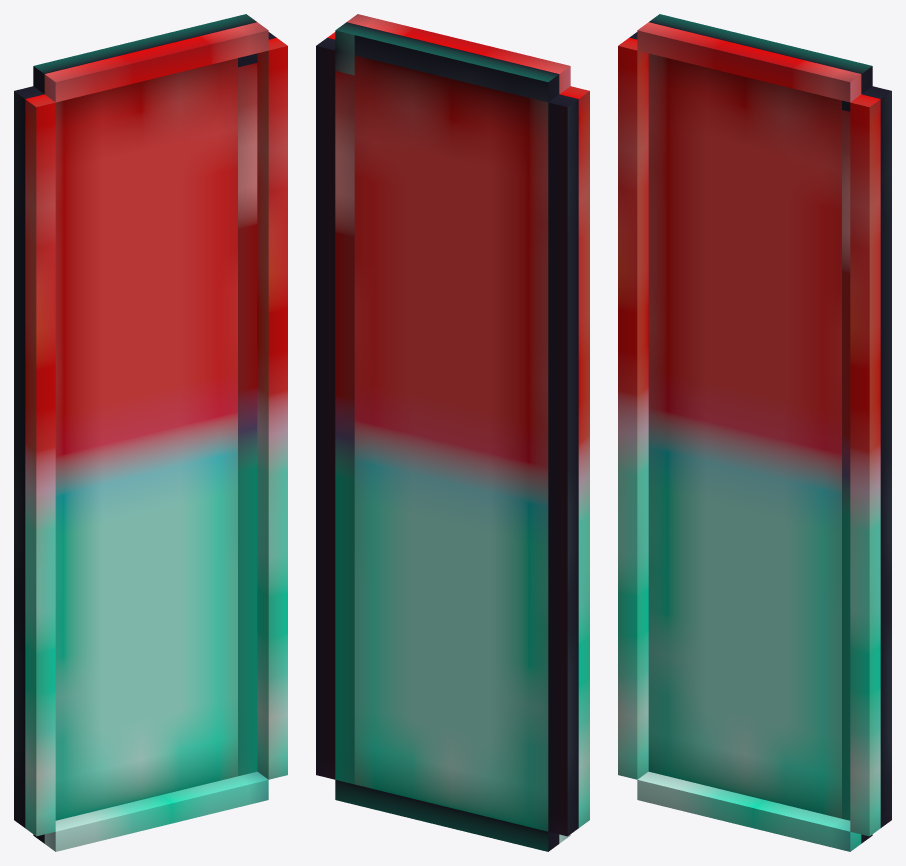
Rendered from Billboard_Pill_00.fbx.
3 renders of one model, left to right at view 1: azimuth 30°, elevation 25°; view 2: azimuth 150°, elevation 25°; view 3: azimuth 330°, elevation 25°, orthographic.
Parts seen in each view (by area): view 1: Billboard_Pill_00; view 2: Billboard_Pill_00; view 3: Billboard_Pill_00.
Part boxes in pixels (<box>): Billboard_Pill_00: <box>14,14,287,851</box>; Billboard_Pill_00: <box>316,14,589,851</box>; Billboard_Pill_00: <box>618,14,891,851</box>.
Bounding box in the file's own units: 65 × 190 × 10.
